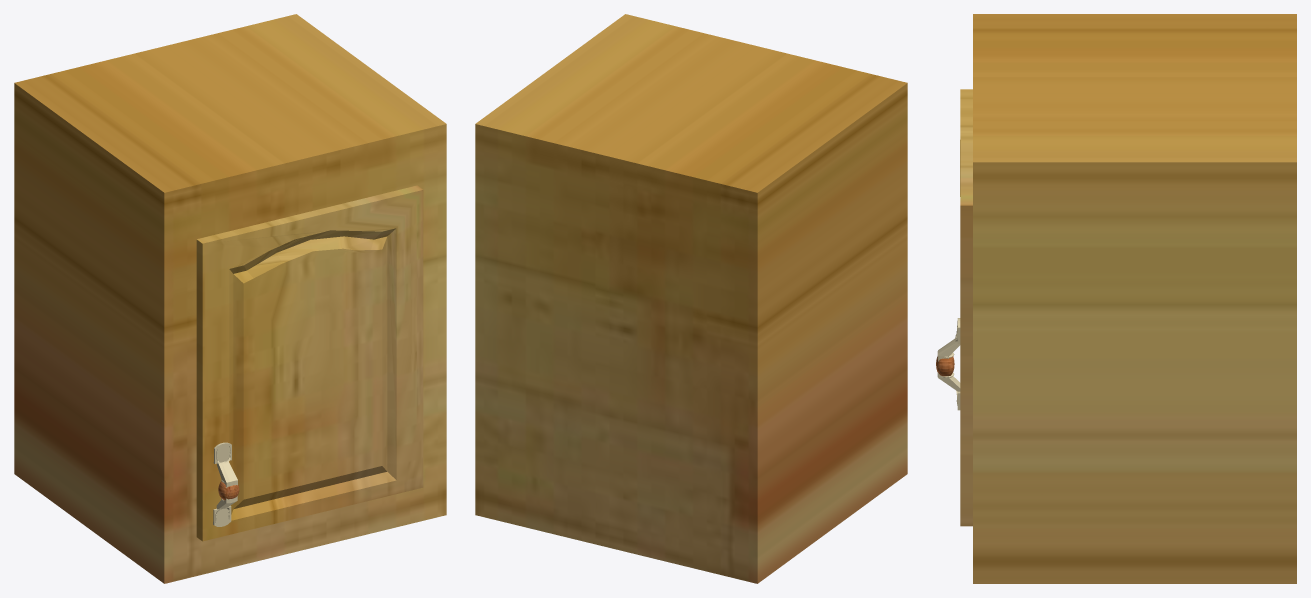
Rendered from 1DoorUpperCabinet.glb.
3 views of the same model, side by side, from view 1: azimuth 30°, elevation 25°; view 2: azimuth 150°, elevation 25°; view 3: azimuth 270°, elevation 25° (orthographic). The views are drawn at different scales.
Visible parts, largest first — view 1: 1DoorUpperCabinet; view 2: 1DoorUpperCabinet; view 3: 1DoorUpperCabinet.
Part boxes in pixels (x1=…): 1DoorUpperCabinet: x1=14, y1=14, x2=446, y2=583; 1DoorUpperCabinet: x1=475, y1=14, x2=907, y2=583; 1DoorUpperCabinet: x1=936, y1=14, x2=1296, y2=583.
Bounding box in the file's own units: 0.452 × 0.5984 × 0.4644.
Materials: 4 (3 with a texture image).
